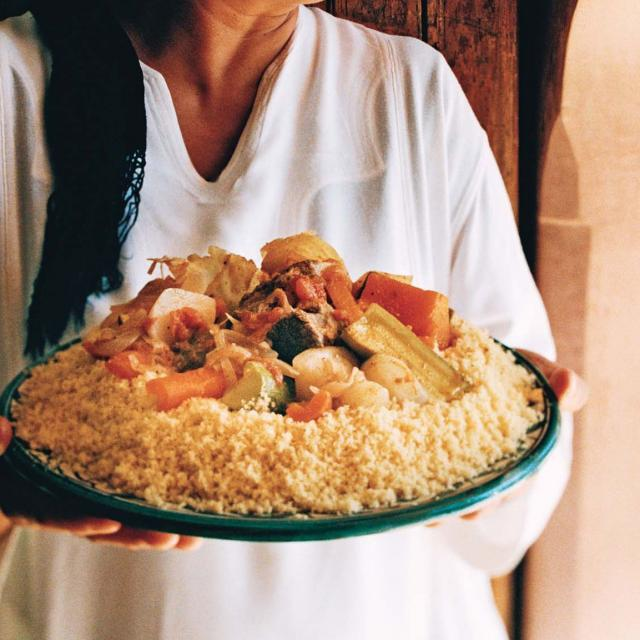Couscous: (0, 229, 557, 546)
